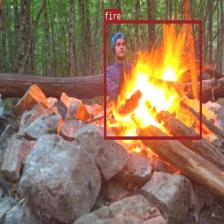fire: (104, 20, 201, 139)
